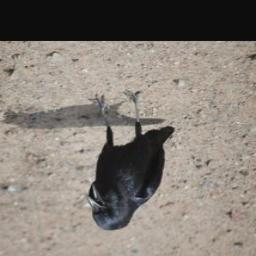Crow: (85, 91, 173, 231)
